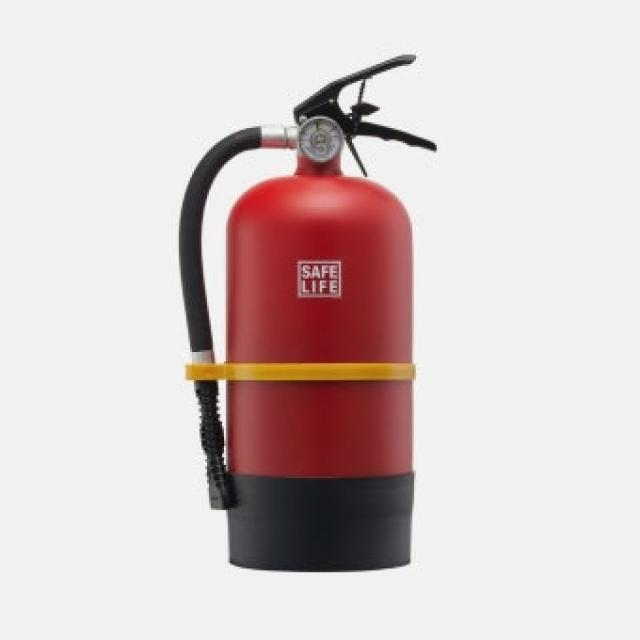pressure gauge: (299, 117, 341, 162)
